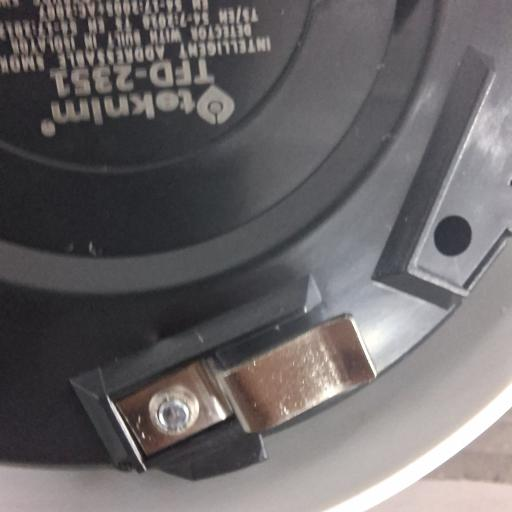yaysiz: (112, 300, 391, 466)
